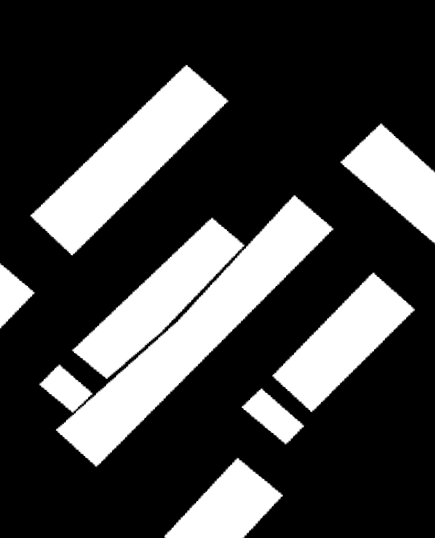parkingspot: (39, 195, 333, 467), (30, 65, 228, 255), (72, 218, 244, 379), (272, 273, 415, 412), (340, 124, 435, 243), (164, 458, 283, 538), (242, 388, 304, 444), (0, 263, 34, 328), (75, 408, 79, 412)
